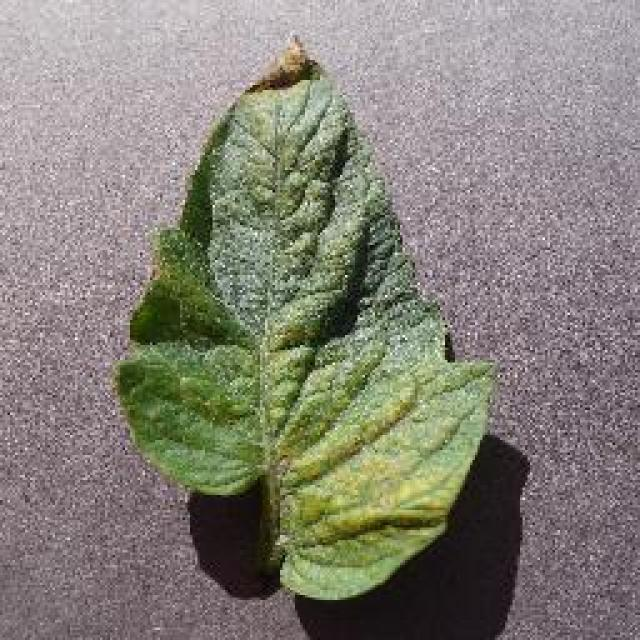Tomato spider mites leaf: (114, 33, 494, 602)
